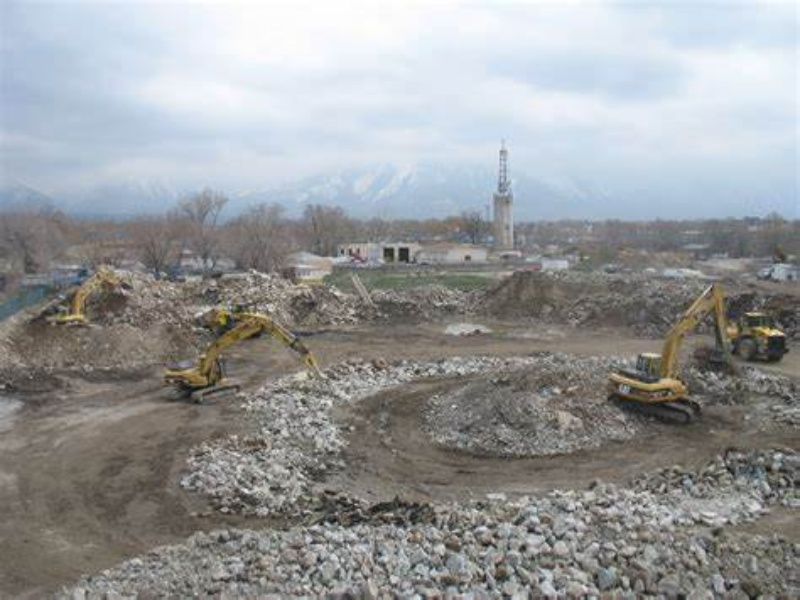excavator: (600, 285, 732, 424), (157, 306, 329, 410)
vehicle: (43, 269, 122, 332), (732, 311, 789, 362)
